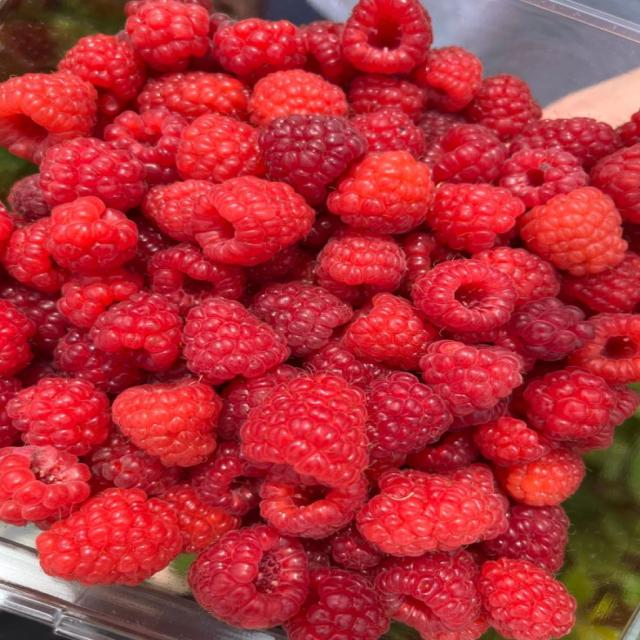raspberry: (240, 372, 367, 487), (37, 488, 181, 585), (357, 465, 506, 556), (189, 526, 308, 628), (193, 176, 314, 266), (112, 378, 221, 466), (260, 115, 366, 204), (376, 549, 480, 638), (183, 297, 289, 384), (520, 188, 626, 275), (0, 72, 97, 163), (327, 151, 433, 233), (7, 378, 110, 455), (479, 558, 576, 639), (40, 138, 146, 211), (420, 340, 521, 416), (284, 566, 389, 639), (251, 282, 353, 356), (412, 260, 516, 332), (367, 372, 452, 458), (342, 293, 437, 369), (0, 446, 90, 525), (91, 292, 181, 371), (58, 34, 146, 114), (47, 197, 137, 274), (260, 474, 368, 538), (524, 367, 617, 441), (147, 244, 245, 314), (341, 0, 433, 74), (427, 184, 525, 253), (217, 365, 302, 440), (104, 108, 186, 185), (85, 432, 181, 495), (176, 114, 263, 182), (481, 505, 569, 572), (126, 0, 209, 71), (213, 18, 305, 82), (54, 329, 143, 394), (511, 118, 619, 170), (505, 297, 594, 360), (248, 70, 347, 126), (318, 229, 406, 292), (190, 443, 264, 516), (137, 72, 249, 120), (161, 486, 239, 553), (474, 247, 559, 308), (495, 449, 585, 506), (500, 149, 588, 207), (58, 269, 142, 328), (466, 74, 541, 140), (425, 124, 508, 183), (0, 282, 68, 352), (2, 217, 65, 292), (562, 252, 639, 313), (571, 314, 639, 383), (572, 386, 639, 454), (413, 47, 482, 112), (142, 181, 213, 242), (306, 340, 391, 389), (351, 108, 426, 158), (591, 145, 639, 223), (347, 74, 426, 121), (474, 417, 550, 465), (299, 21, 356, 84), (244, 244, 314, 290), (407, 430, 479, 473), (0, 299, 37, 377), (129, 214, 175, 273), (331, 524, 384, 572), (400, 232, 436, 296), (7, 174, 50, 221), (452, 397, 510, 429), (16, 356, 71, 388), (418, 110, 466, 146), (428, 613, 488, 639), (0, 374, 21, 448), (301, 212, 341, 250), (366, 453, 407, 488), (146, 359, 193, 383), (299, 539, 332, 566), (616, 111, 639, 146), (0, 203, 14, 258), (623, 221, 639, 254), (178, 0, 213, 12)
